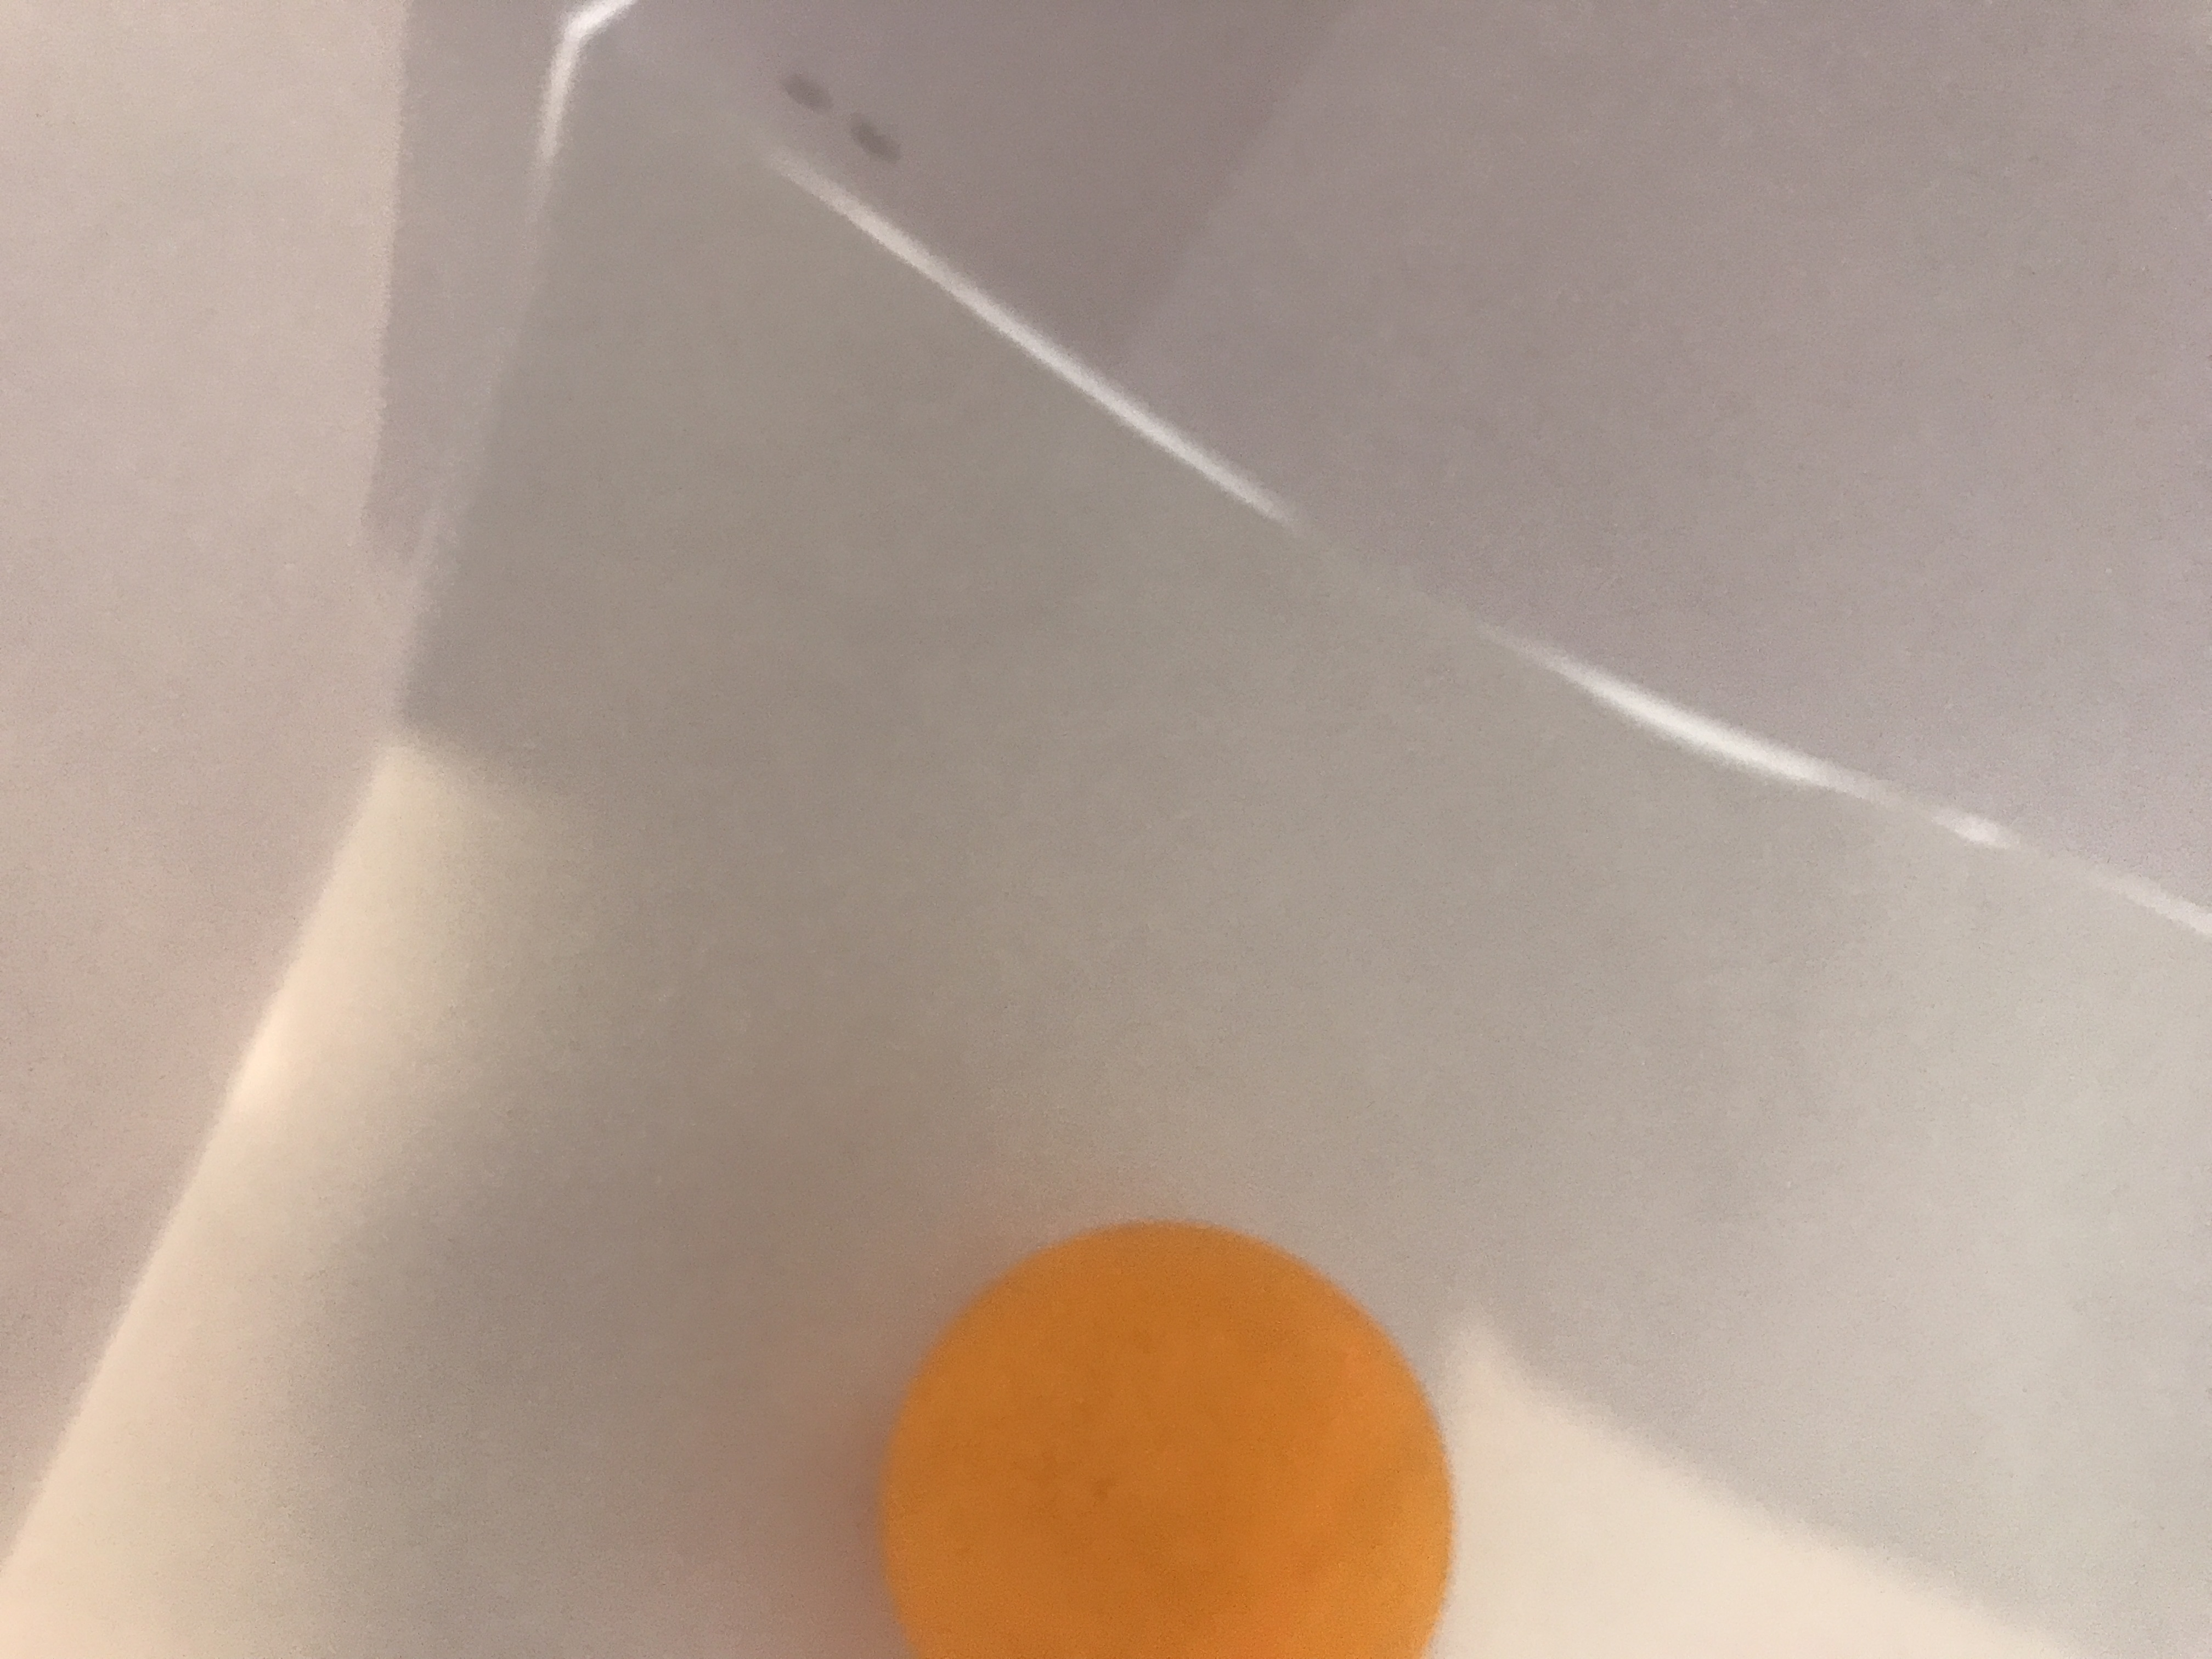pp: (855, 1216, 1465, 1659)
